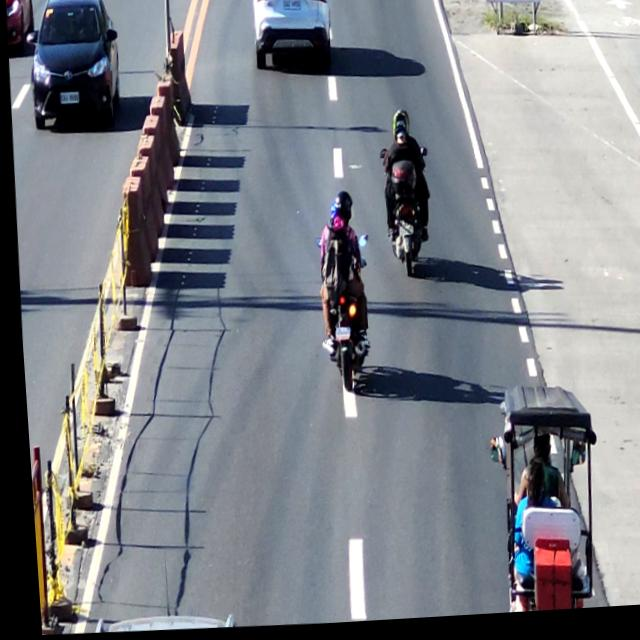Car: (250, 0, 333, 73)
License-Plate: (279, 0, 306, 17), (327, 326, 348, 347), (394, 224, 412, 246)
Motorcycle: (302, 193, 381, 405), (371, 108, 438, 295)
Tricycle: (481, 385, 599, 619)
